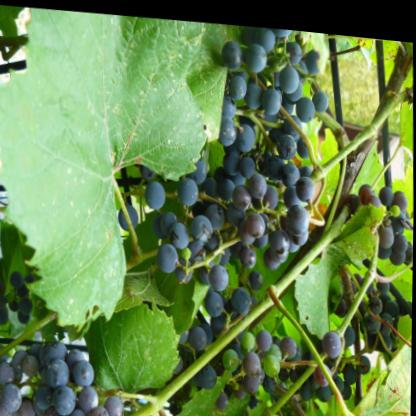grape: (126, 11, 416, 416), (0, 316, 147, 416)
